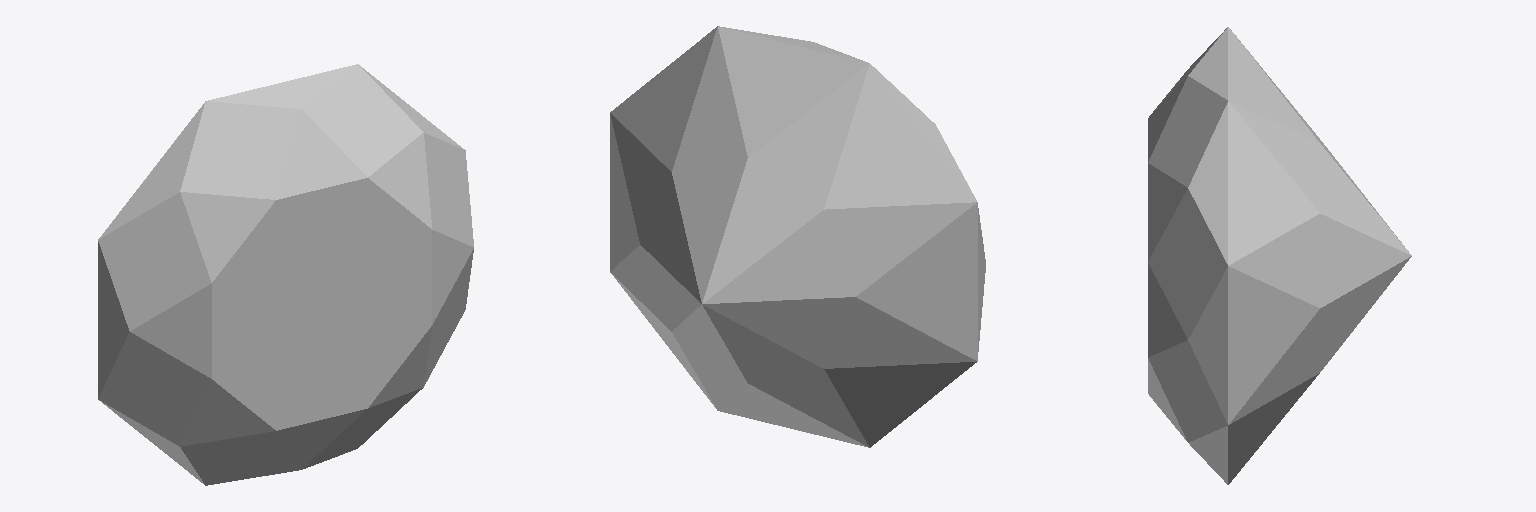
Rendered from gem.obj.
3 renders of one model, left to right at view 1: azimuth 30°, elevation 25°; view 2: azimuth 150°, elevation 25°; view 3: azimuth 270°, elevation 25°, orthographic.
Parts seen in each view (by area): view 1: Gem; view 2: Gem; view 3: Gem.
Boxes of the visible parts, <box> form: Gem: <box>98,64,473,485</box>; Gem: <box>610,26,985,447</box>; Gem: <box>1148,27,1411,484</box>.
Size of the model in its own units: 1.85 by 1.85 by 1.15.